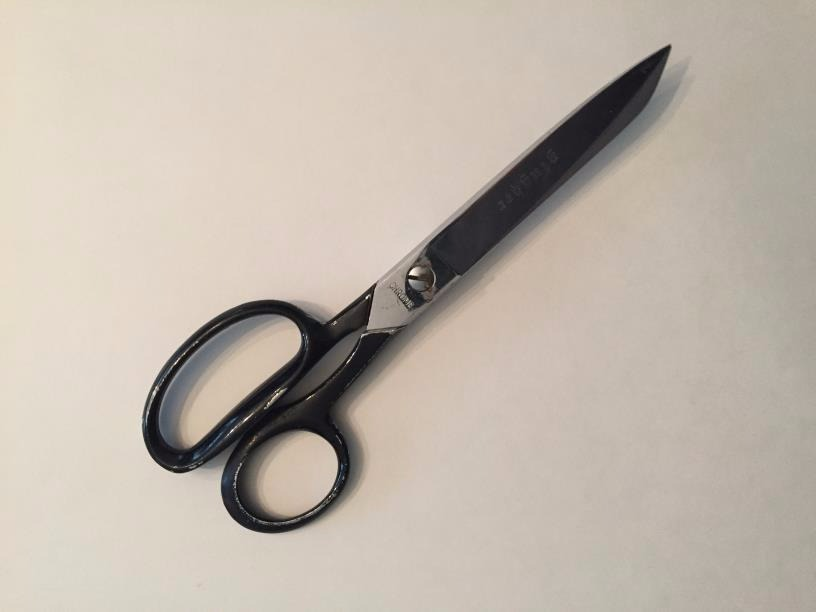scissor: (116, 26, 709, 546)
